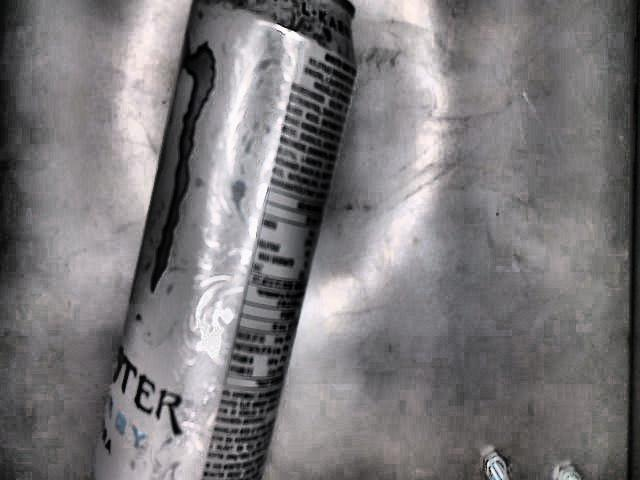Bottles: (93, 0, 359, 480)
